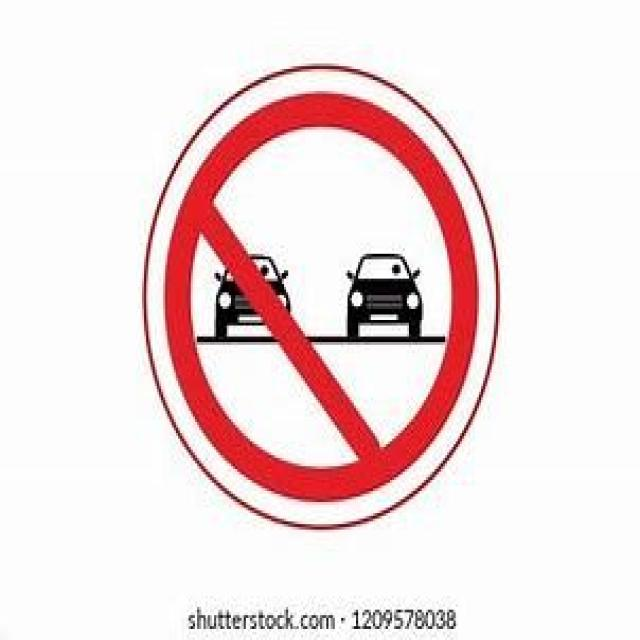no_stop: (167, 91, 477, 494)
